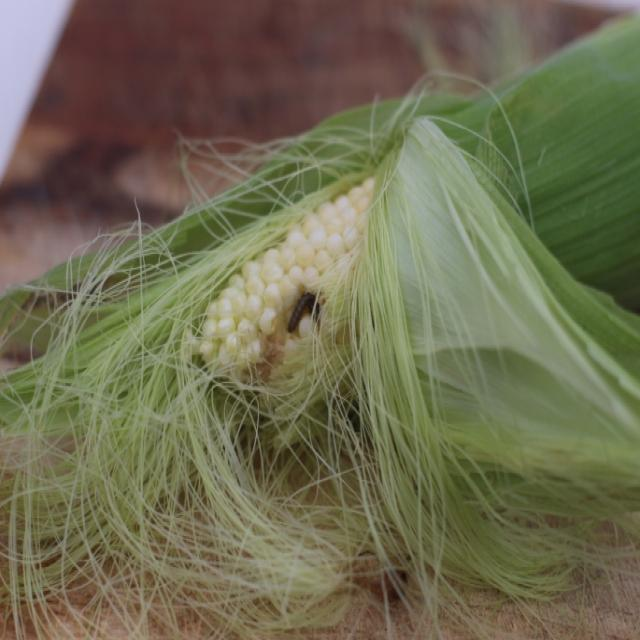cornborer-Larva-: (282, 286, 328, 344)
